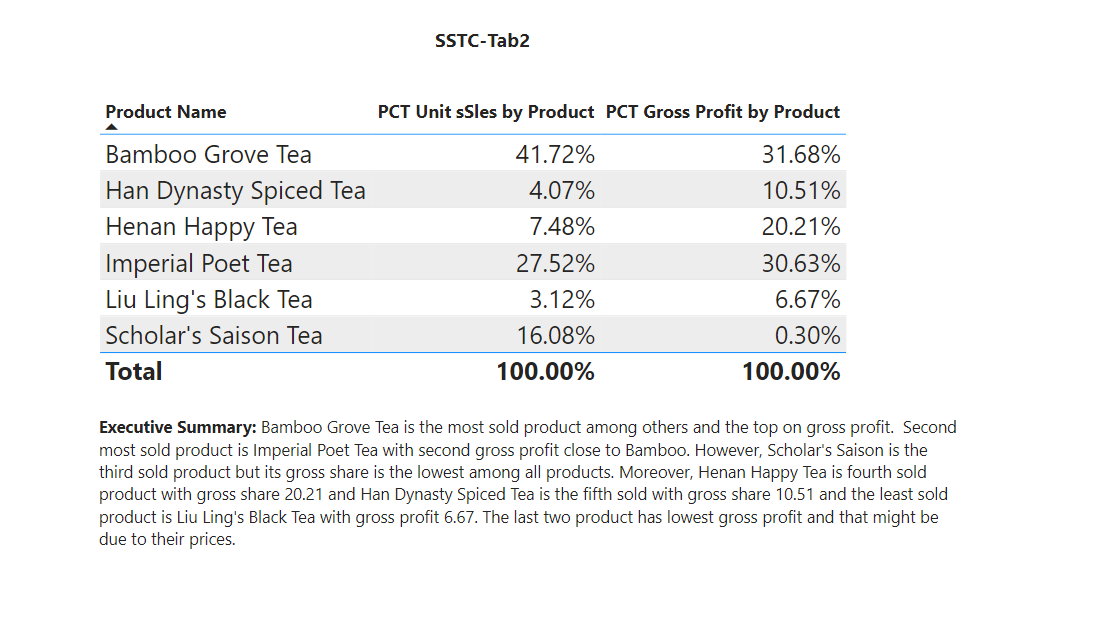

Layout of this report page (visuals, bound fields, positions):
{"tool":"powerbi","page":{"name":"Gross Profit and Unit Sales","canvas":[1280,720],"ordinal":1},"visuals":[{"type":"tableEx","fields":{"Values":["Product Offering.Product Name","Monthly Sales.unit sales by product PCT","Monthly Sales.Gross profit by product PCT"]},"box":[113.4,147.1,1052.9,306.3],"z":0},{"type":"textbox","box":[113.4,453.5,844.2,193],"z":1000},{"type":"textbox","box":[437.4,78.1,116.5,53.5],"z":2000}]}

Visuals, with their boxes in screenshot pixels (x1, y1, x2, y2), scaled from the page's 1280x720 canvas onto the 1112x641 screenshot:
tableEx - Product Offering.Product Name x Monthly Sales.unit sales by product PCT: (left=99, top=131, right=1013, bottom=404)
textbox: (left=99, top=404, right=832, bottom=576)
textbox: (left=380, top=70, right=481, bottom=117)
